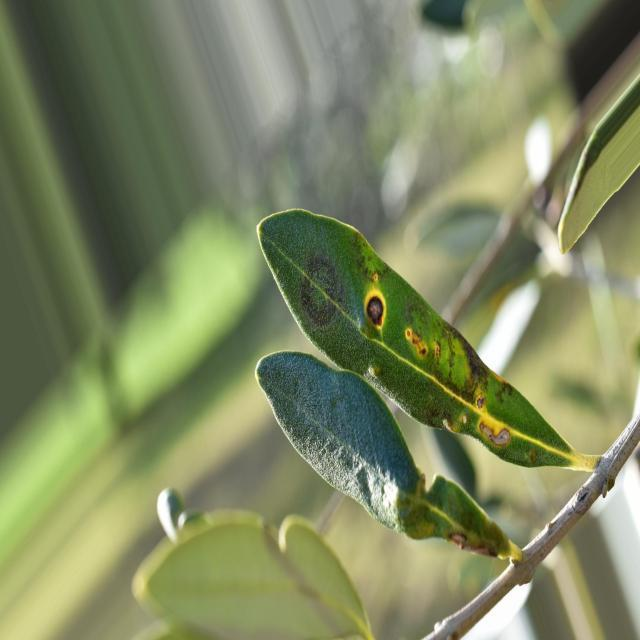OlivePeacockSpot: (258, 209, 600, 471), (256, 352, 510, 558)
